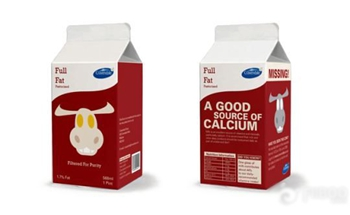Rec_Paper: (41, 20, 150, 191), (195, 20, 295, 192)
